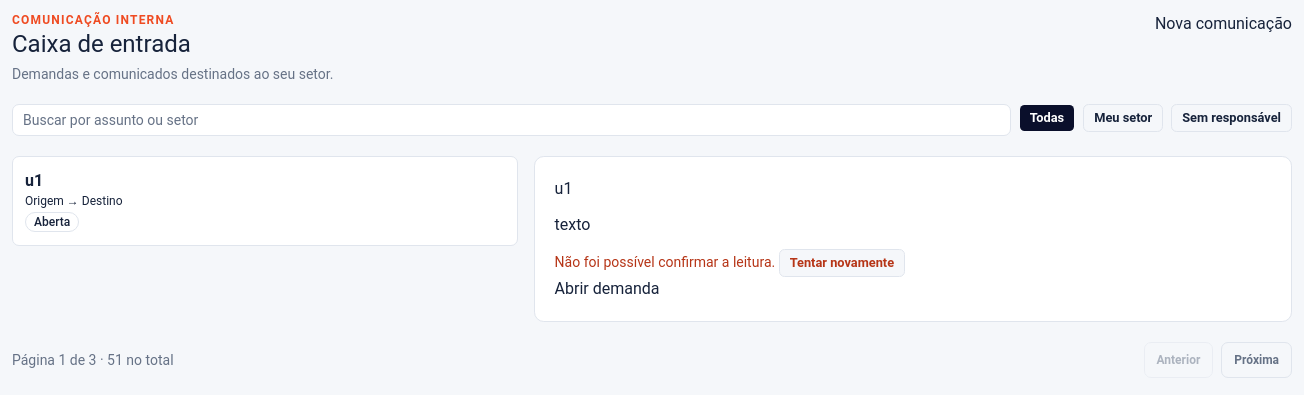
Test: InboxPage › mostra falha de leitura da seleção atual e permite retry explícito
Expected: the message shows "confirmar a leitura", [555, 254, 779, 270]
Click the button "Tentar novamente" at (842, 263), box [779, 249, 905, 277]
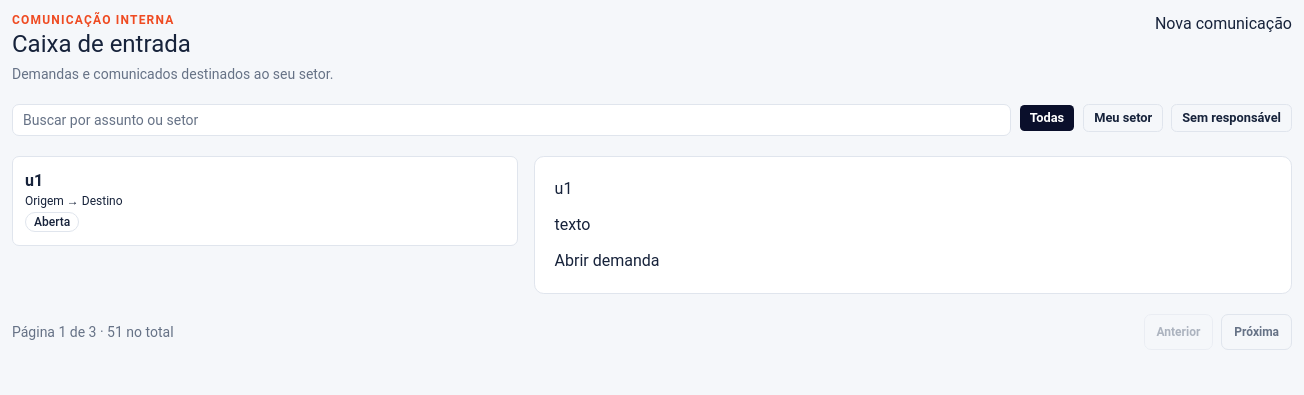
Expected: the message "Não foi possível confirmar a leitura. Tentar novamente" is gone
